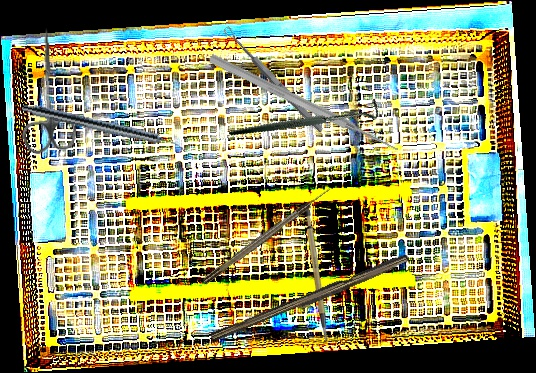Handpiece: (20, 101, 187, 154)
Hook Surgical: (228, 55, 384, 181), (201, 186, 333, 285)
Iris Scissors: (16, 26, 79, 155)
Pusher: (207, 52, 401, 156)
Scalpel Handle: (209, 250, 412, 348), (303, 210, 328, 341)
Surgical Spoon: (222, 24, 325, 135)
